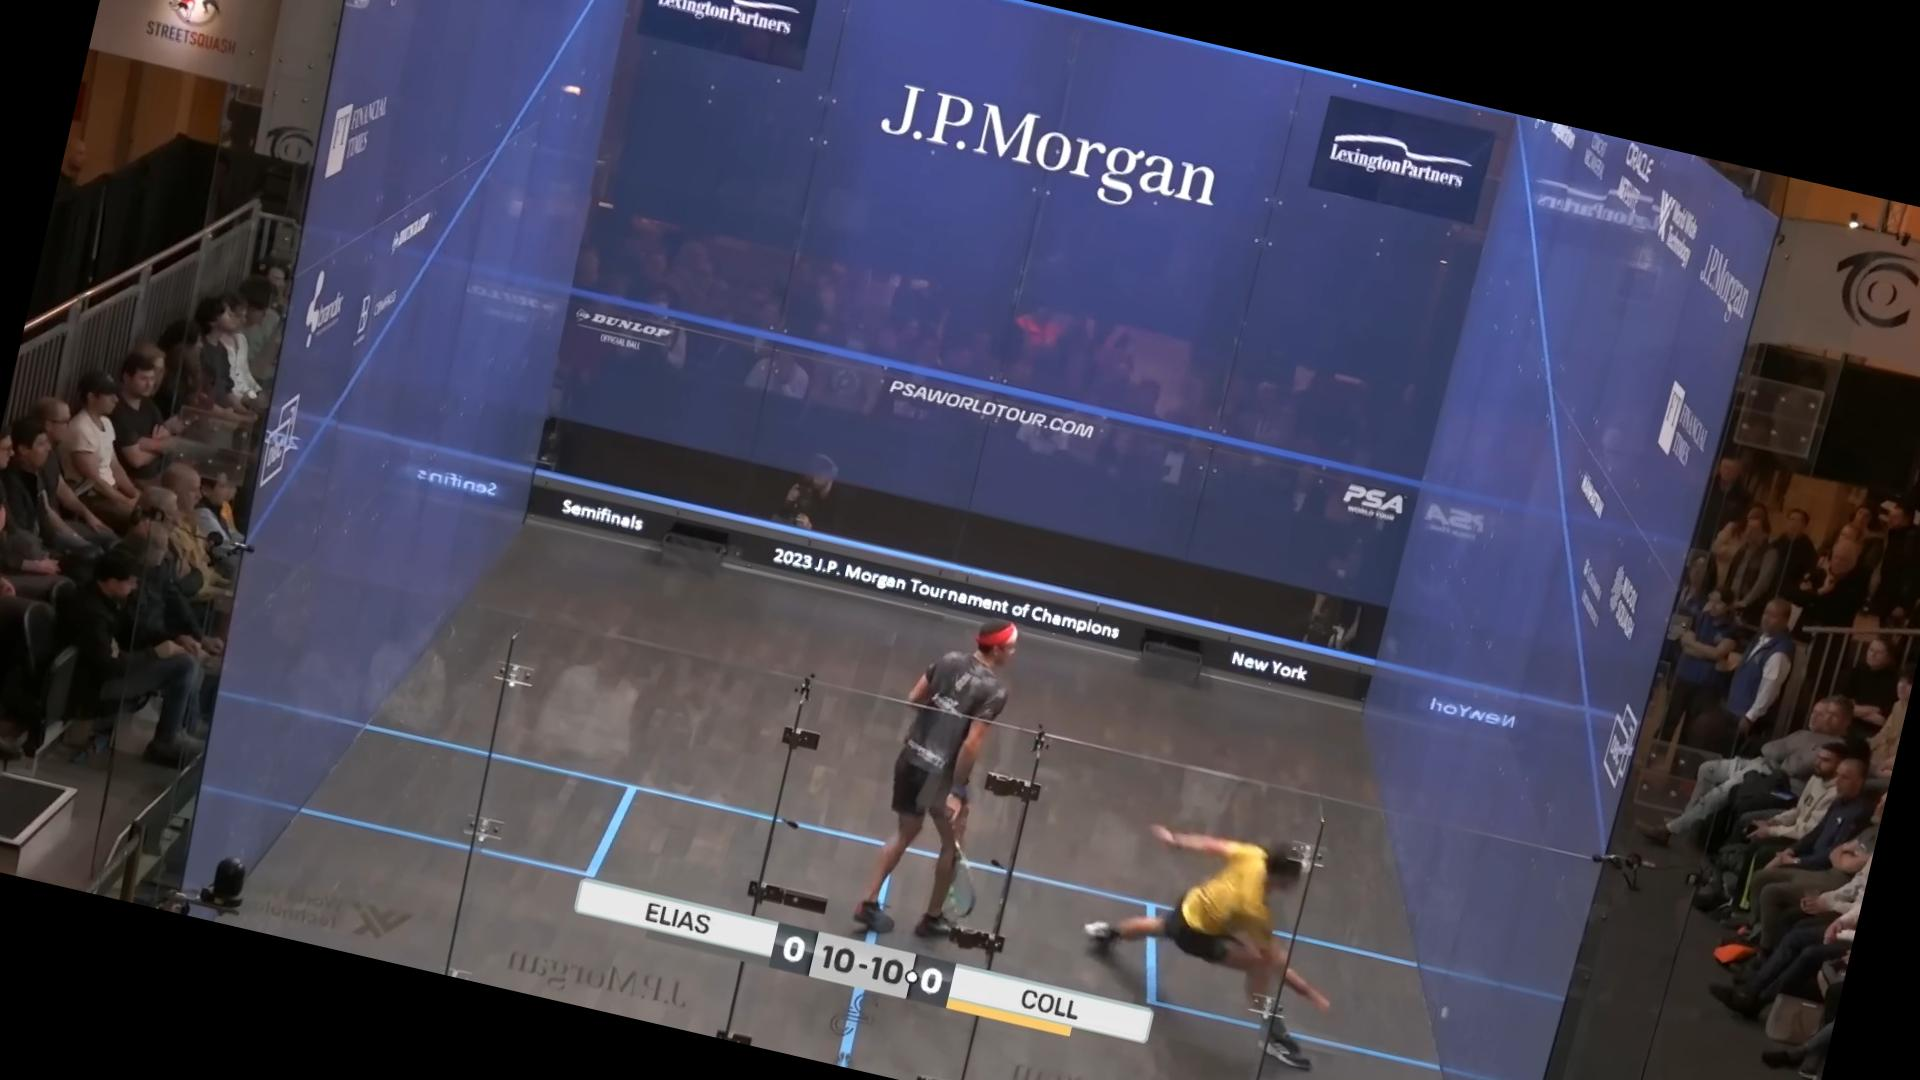Racket: (914, 818, 993, 926)
